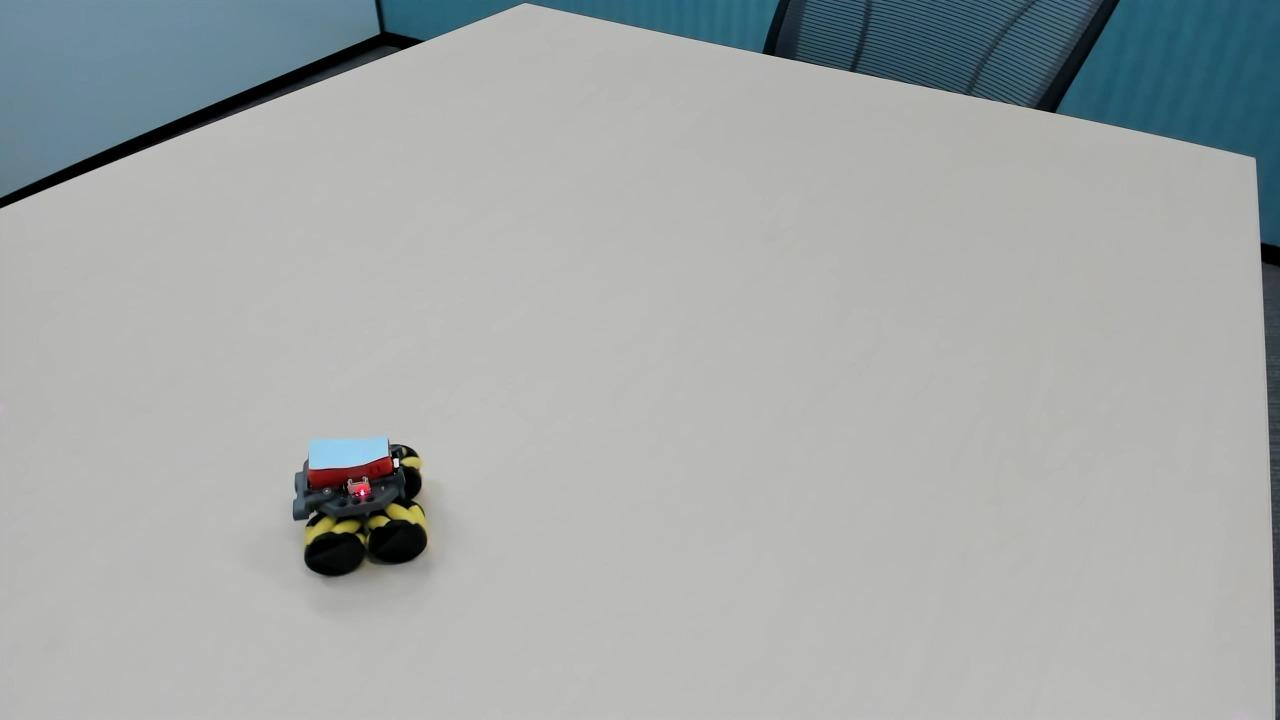B-Robot: (271, 428, 453, 608)
